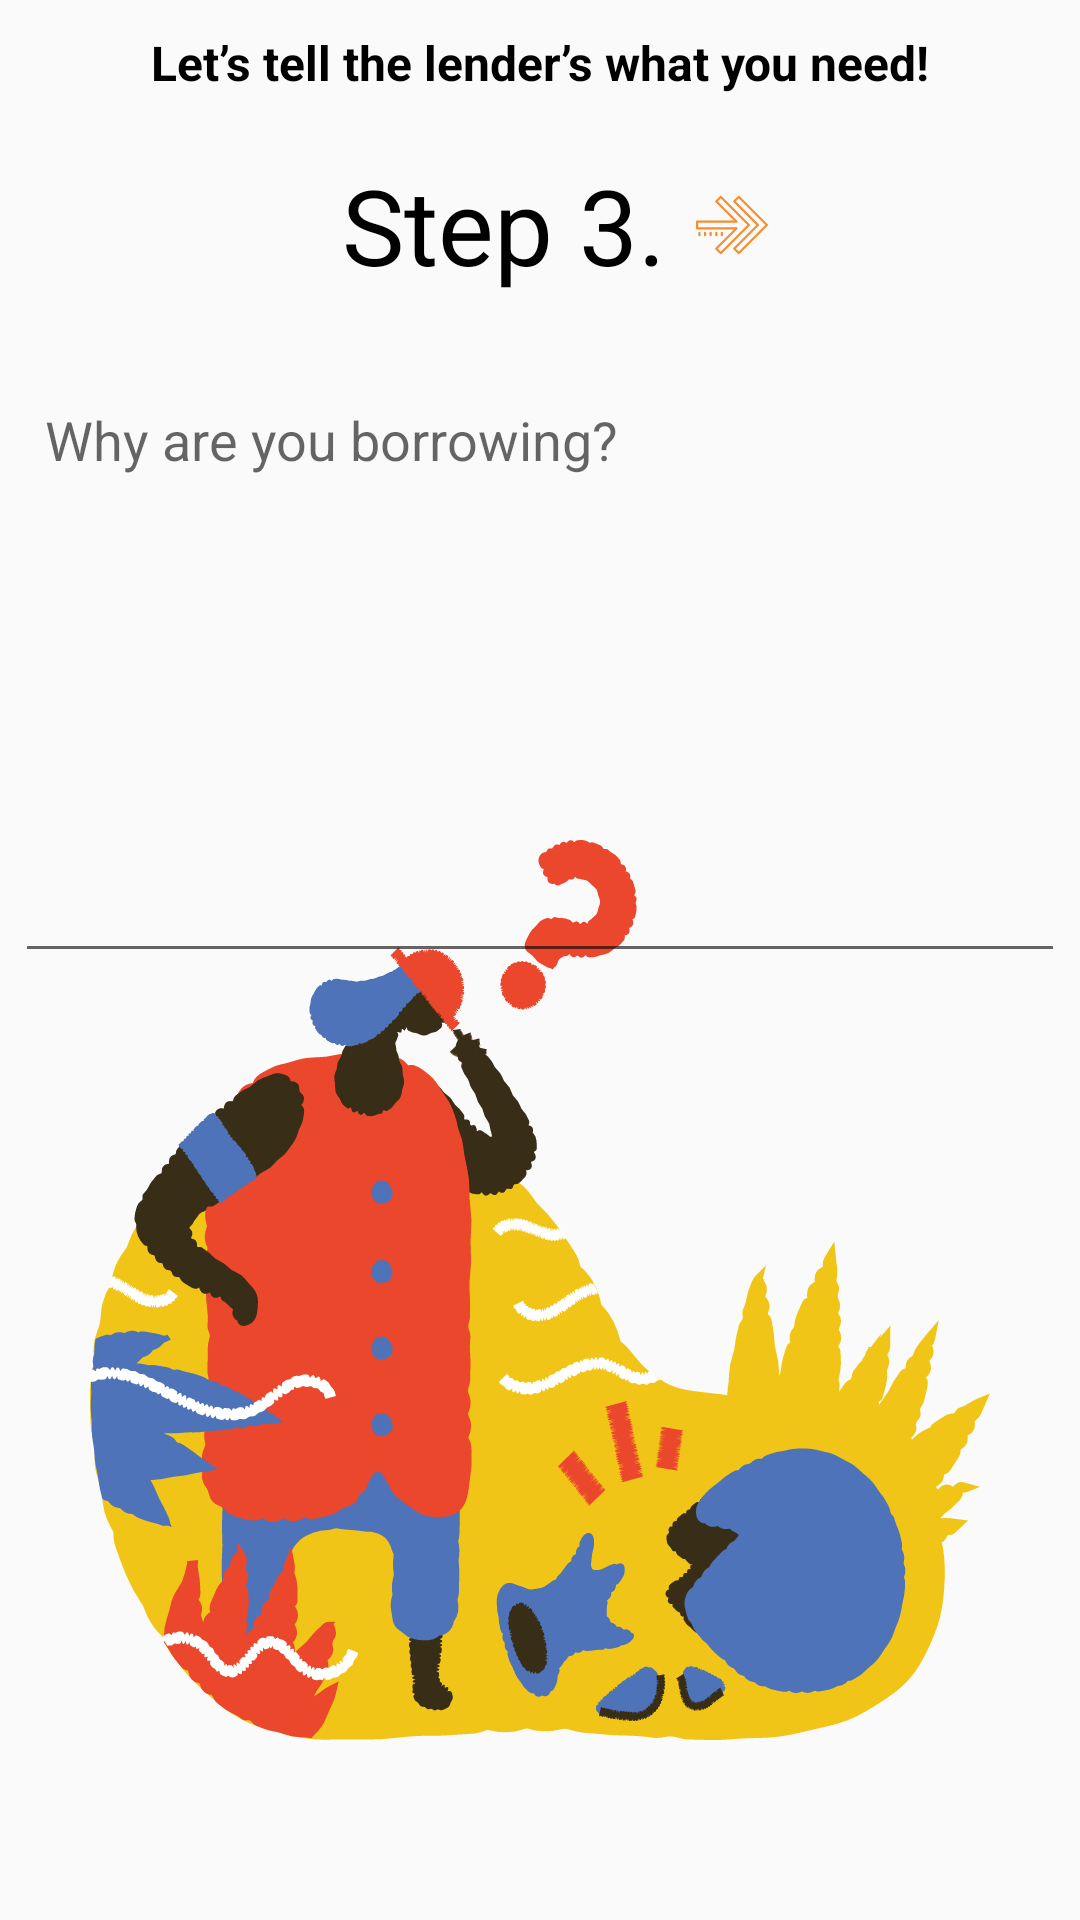

Screen size 1080 x 1920. Icon name, then its center in pixels as [x,y]:
double arrow: [732,225]
